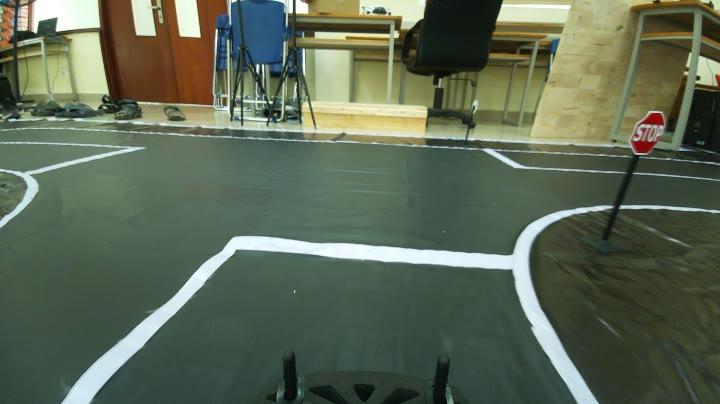stop: (627, 108, 668, 154)
